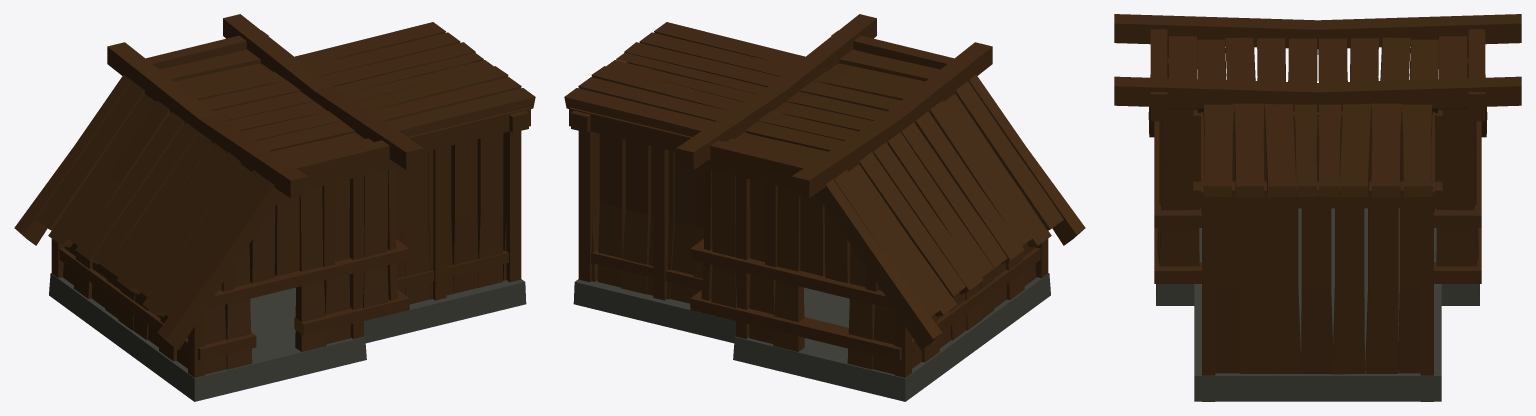
Rendered from Houses_FirstAge_2_Level3.obj.
The picture shows the model from 3 angles, left to right: view 1: azimuth 30°, elevation 25°; view 2: azimuth 150°, elevation 25°; view 3: azimuth 270°, elevation 25°; orthographic projection. The views are drawn at different scales.
Visible parts, largest first — view 1: Houses_FirstAge_2_Level3_Cube.034; view 2: Houses_FirstAge_2_Level3_Cube.034; view 3: Houses_FirstAge_2_Level3_Cube.034.
Boxes of the visible parts, box(x1,y1,x2,y2) form: Houses_FirstAge_2_Level3_Cube.034: box(14, 14, 535, 401); Houses_FirstAge_2_Level3_Cube.034: box(564, 14, 1085, 401); Houses_FirstAge_2_Level3_Cube.034: box(1114, 14, 1521, 401).
Bounding box in the file's own units: 1.46 × 0.7685 × 1.17.
